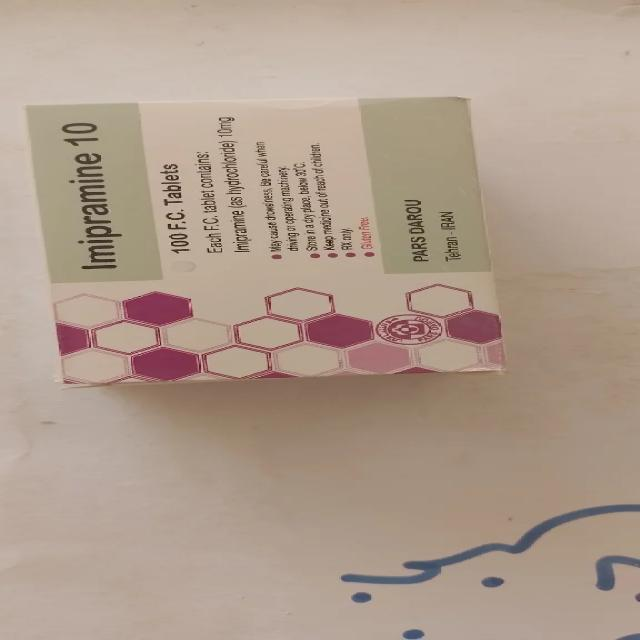drug-name: (50, 116, 134, 272)
